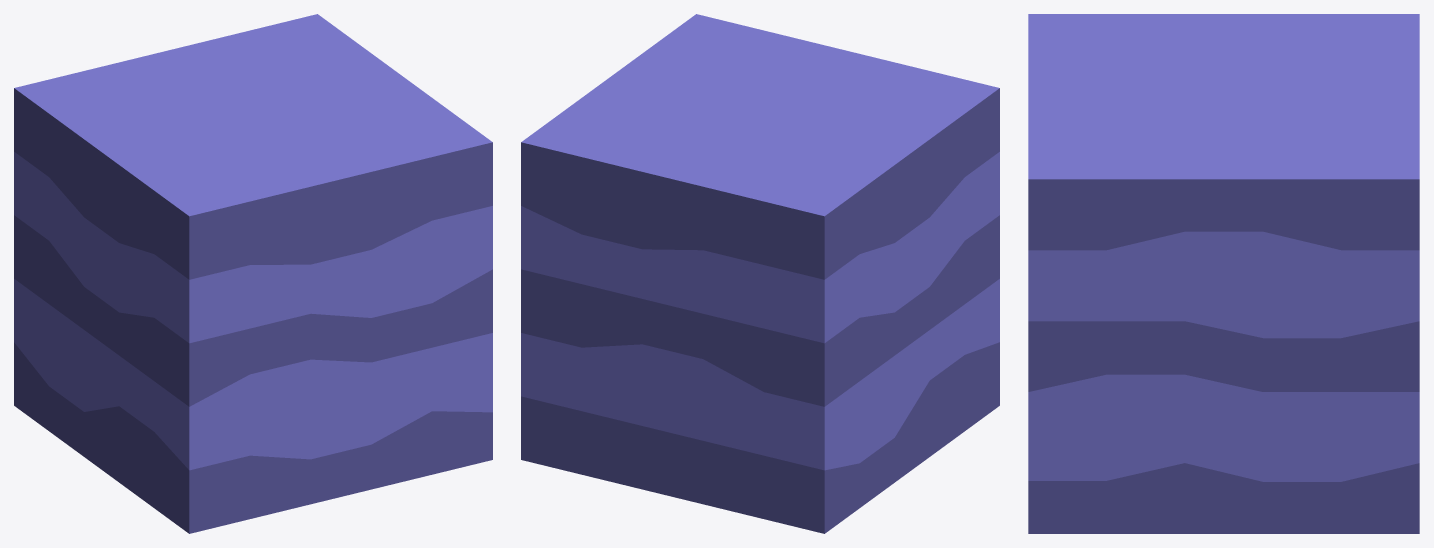
Rendered from Stone007.fbx.
3 views of the same model, side by side, from view 1: azimuth 30°, elevation 25°; view 2: azimuth 150°, elevation 25°; view 3: azimuth 270°, elevation 25° (orthographic). The views are drawn at different scales.
Parts seen in each view (by area): view 1: Stone007; view 2: Stone007; view 3: Stone007.
Boxes of the visible parts, x1,y1,x2,y2 form: Stone007: [14, 14, 492, 533]; Stone007: [521, 14, 999, 533]; Stone007: [1028, 14, 1419, 533].
Size of the model in its own units: 156 by 156 by 156.
